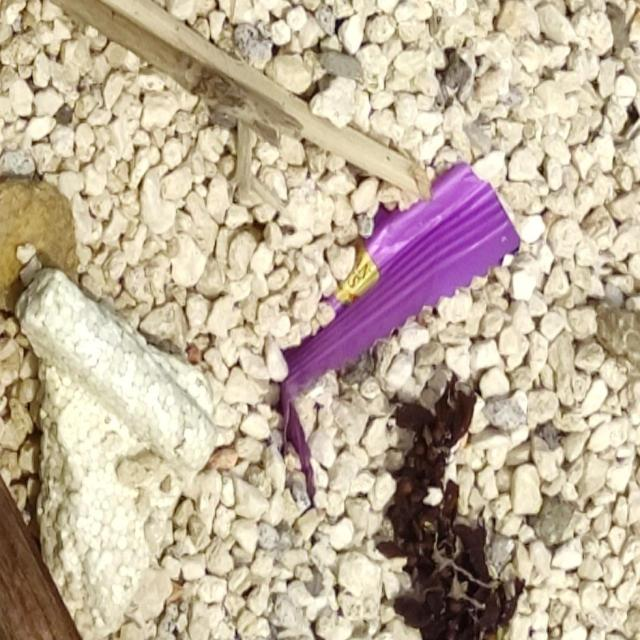litter: (14, 268, 218, 640), (280, 159, 523, 405)
